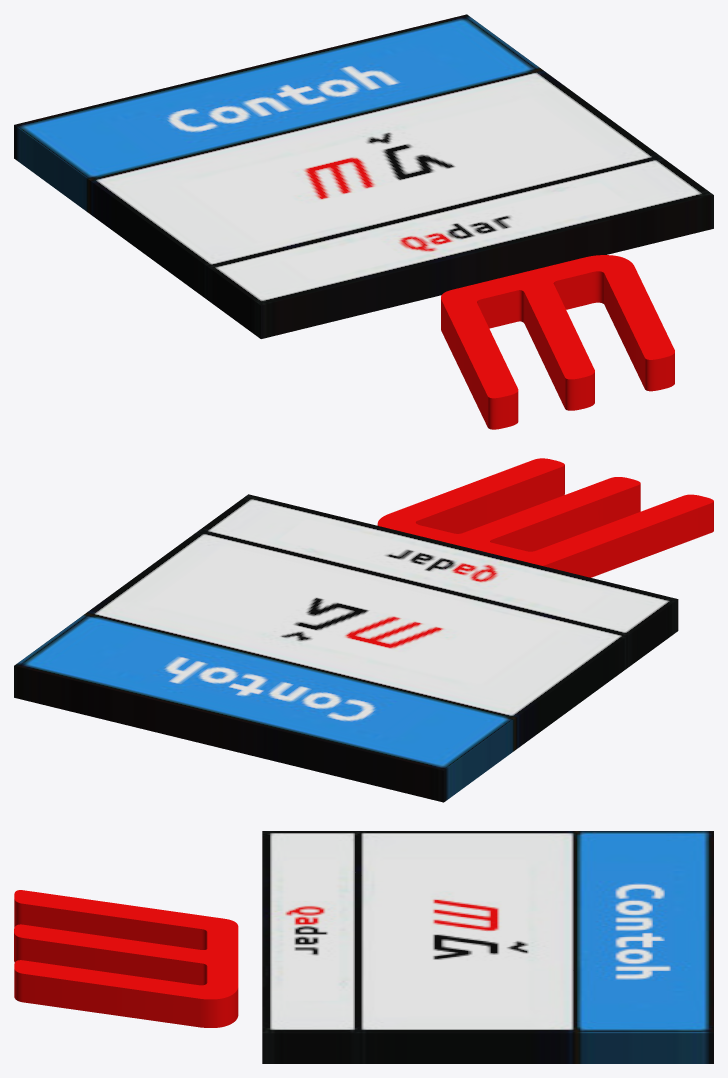
3 views of the same model, one above another, from view 1: azimuth 30°, elevation 25°; view 2: azimuth 150°, elevation 25°; view 3: azimuth 270°, elevation 25° (orthographic). The views are drawn at different scales.
Parts seen in each view (by area): view 1: contoh-bunyi-huruf-qa-Ngalagena, Text; view 2: contoh-bunyi-huruf-qa-Ngalagena, Text; view 3: contoh-bunyi-huruf-qa-Ngalagena, Text.
Boxes of the visible parts, bbox=[...] form: contoh-bunyi-huruf-qa-Ngalagena: bbox=[14, 14, 713, 338]; Text: bbox=[441, 255, 674, 429]; contoh-bunyi-huruf-qa-Ngalagena: bbox=[14, 494, 678, 802]; Text: bbox=[377, 458, 713, 577]; contoh-bunyi-huruf-qa-Ngalagena: bbox=[262, 831, 713, 1063]; Text: bbox=[14, 890, 238, 1027].
Size of the model in its own units: 1.06 by 0.11 by 1.55.
2 materials, 1 textured.
